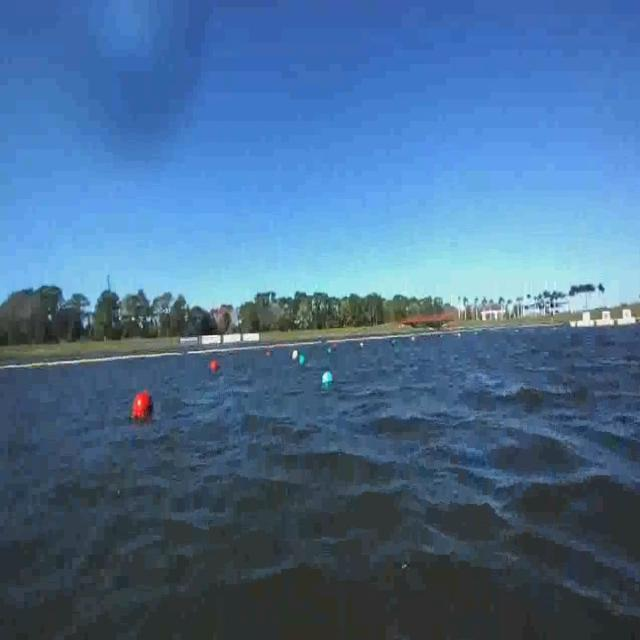green-buoy: (323, 371, 333, 387), (298, 354, 304, 366)
red-buoy: (133, 391, 155, 422), (210, 359, 218, 370)
